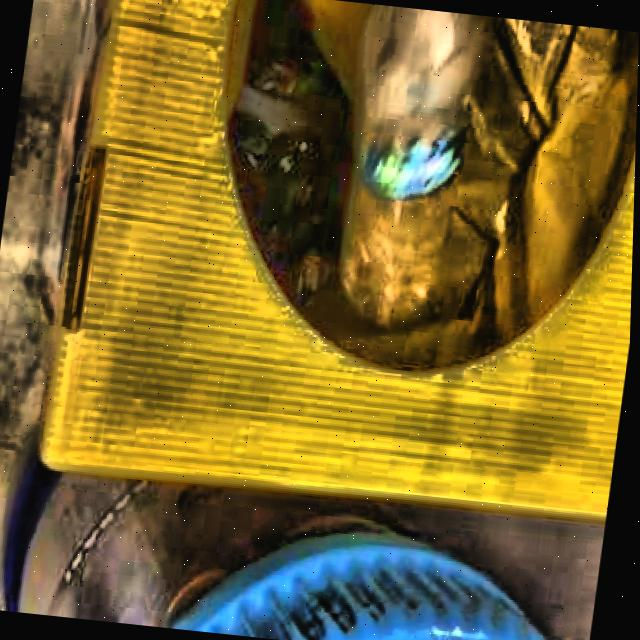plastic: (356, 4, 483, 201), (344, 193, 450, 328)
